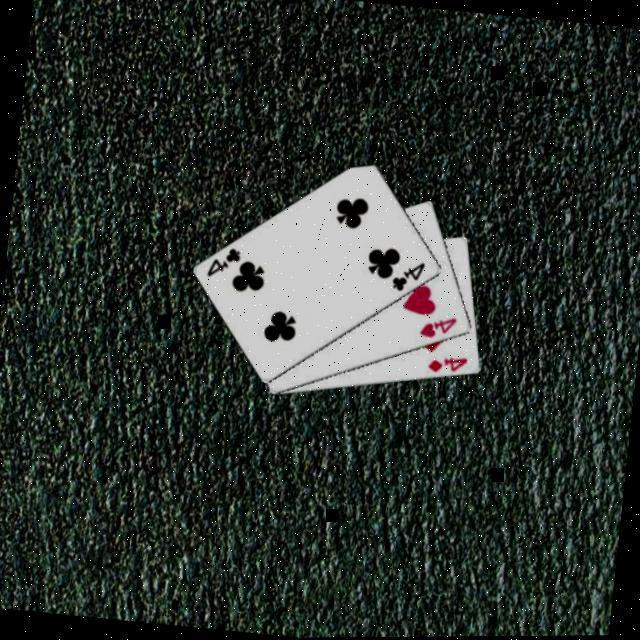4C: (384, 257, 426, 297), (201, 243, 243, 283)
4D: (422, 353, 468, 380)
4H: (413, 312, 458, 344)
